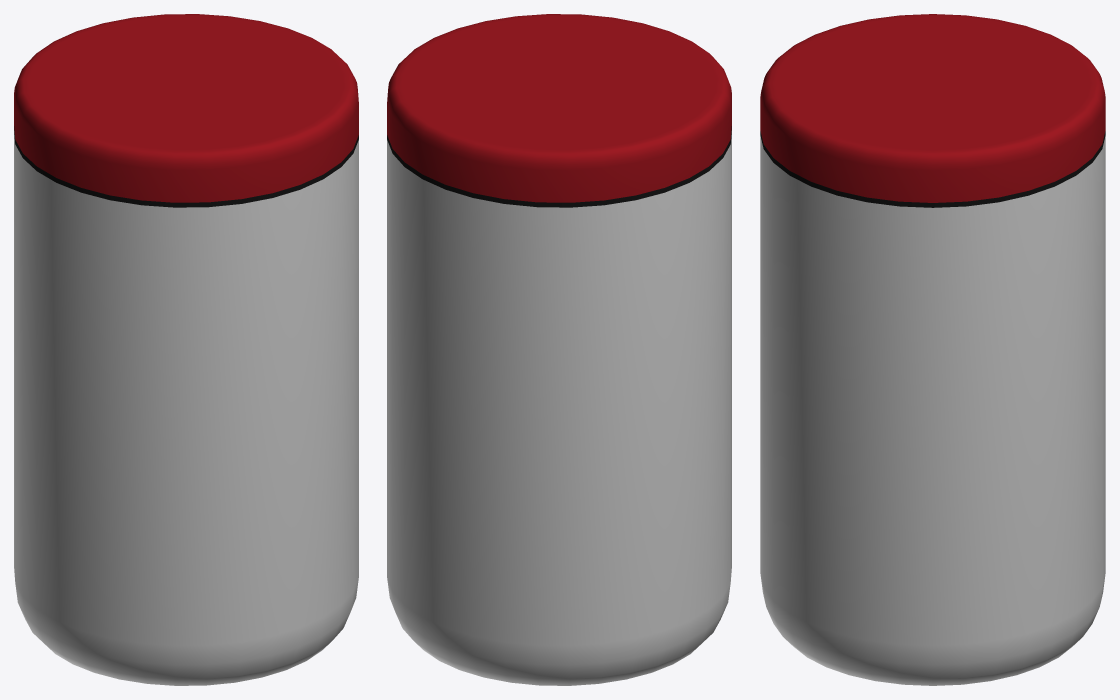
Rendered from jam.fbx.
3 renders of one model, left to right at view 1: azimuth 30°, elevation 25°; view 2: azimuth 150°, elevation 25°; view 3: azimuth 270°, elevation 25°, orthographic.
Parts seen in each view (by area): view 1: Cylinder; view 2: Cylinder; view 3: Cylinder.
Boxes of the visible parts, box(x1,y1,x2,y2) form: Cylinder: box(14, 14, 358, 685); Cylinder: box(387, 14, 731, 685); Cylinder: box(760, 14, 1105, 685).
Size of the model in its own units: 200 by 347 by 200.
